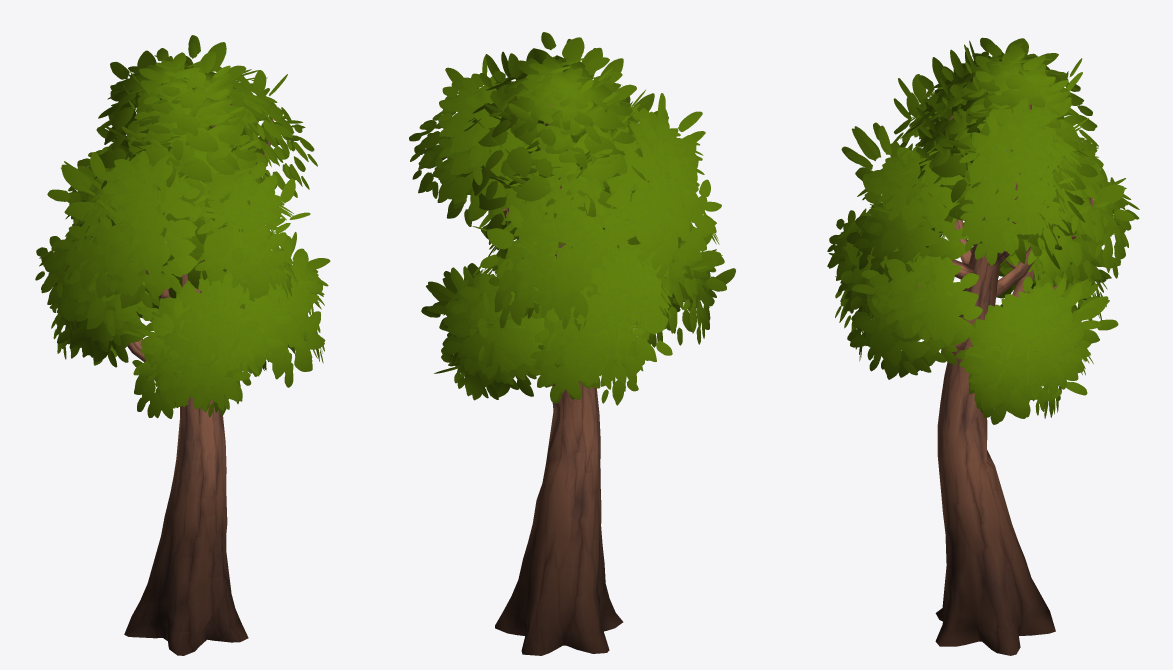
File: commontree_1_lod1.glb
3 renders of one model, left to right at view 1: azimuth 30°, elevation 25°; view 2: azimuth 150°, elevation 25°; view 3: azimuth 270°, elevation 25°, orthographic. The views are drawn at different scales.
Parts seen in each view (by area): view 1: CommonTree_1; view 2: CommonTree_1; view 3: CommonTree_1.
Part boxes in pixels (x1,y1,x2,y2): CommonTree_1: [35, 35, 330, 655]; CommonTree_1: [409, 32, 735, 655]; CommonTree_1: [827, 37, 1139, 655].
Bounding box in the file's own units: 3.95 × 7.2 × 3.94.
2 materials, 2 textured.
